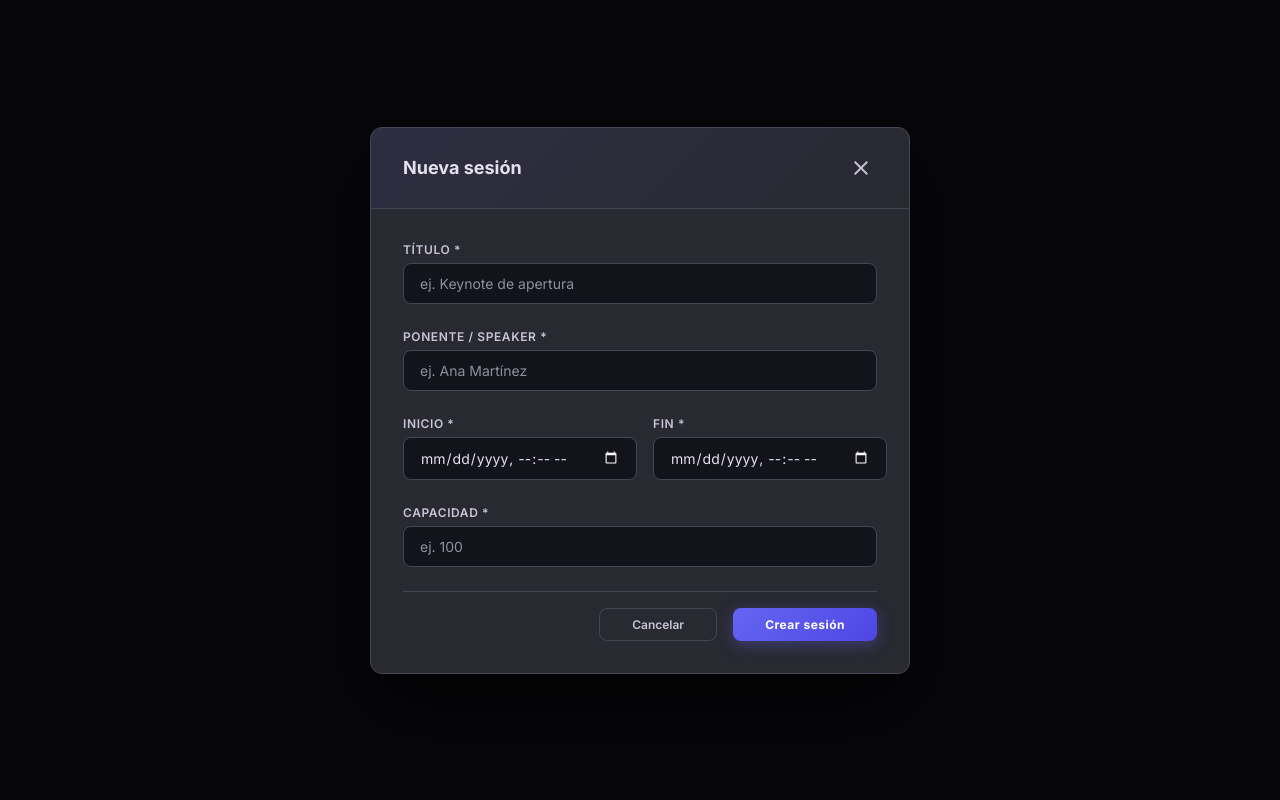
Test: SessionFormModal — create mode › shows error when end date is before start date
In the field labelled "Título *": (640, 283) left=403, top=262, right=877, bottom=304, type "My Talk"
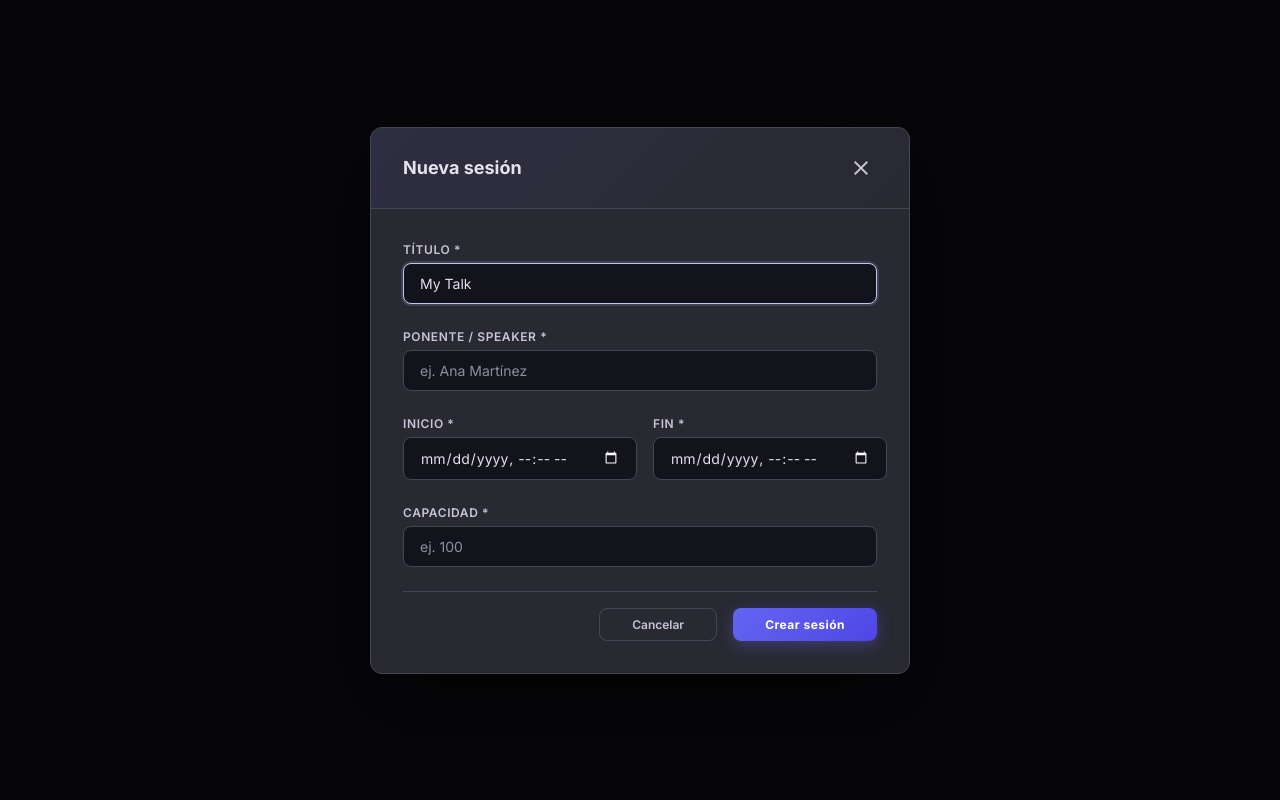
In the field labelled "Ponente / Speaker *": (640, 370) left=403, top=350, right=877, bottom=390, type "John"
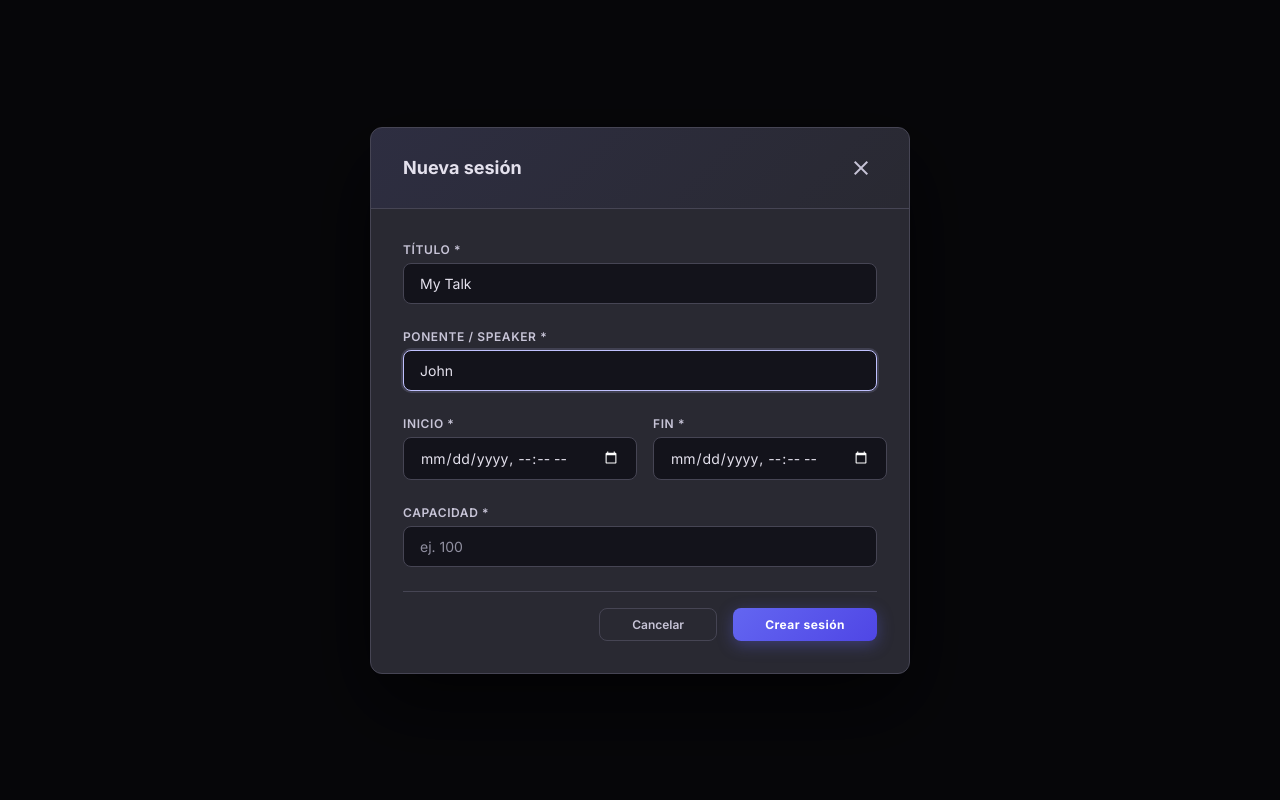
In the number field labelled "Capacidad *": (640, 546) left=403, top=526, right=877, bottom=566, type "50"
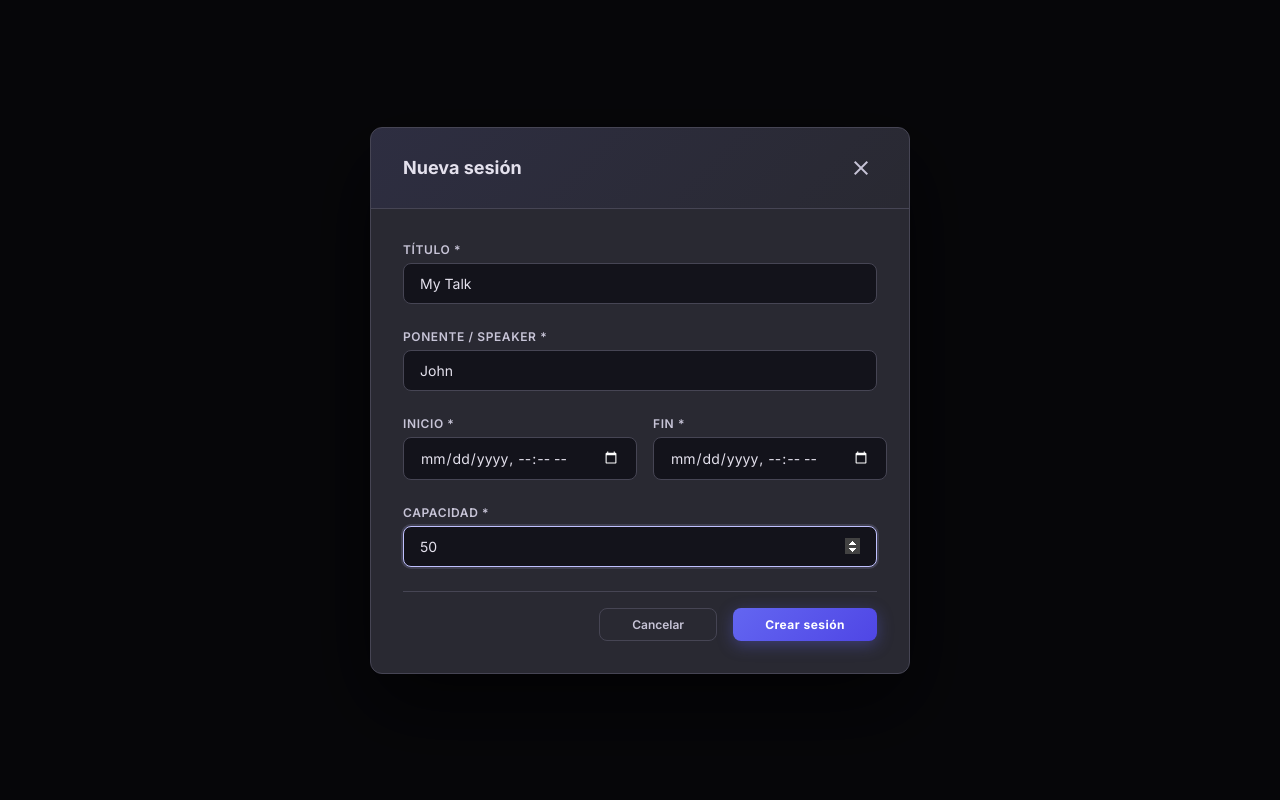
In the field labelled "Inicio *": (520, 458) left=403, top=436, right=637, bottom=480, type "2026-06-01T10:00"
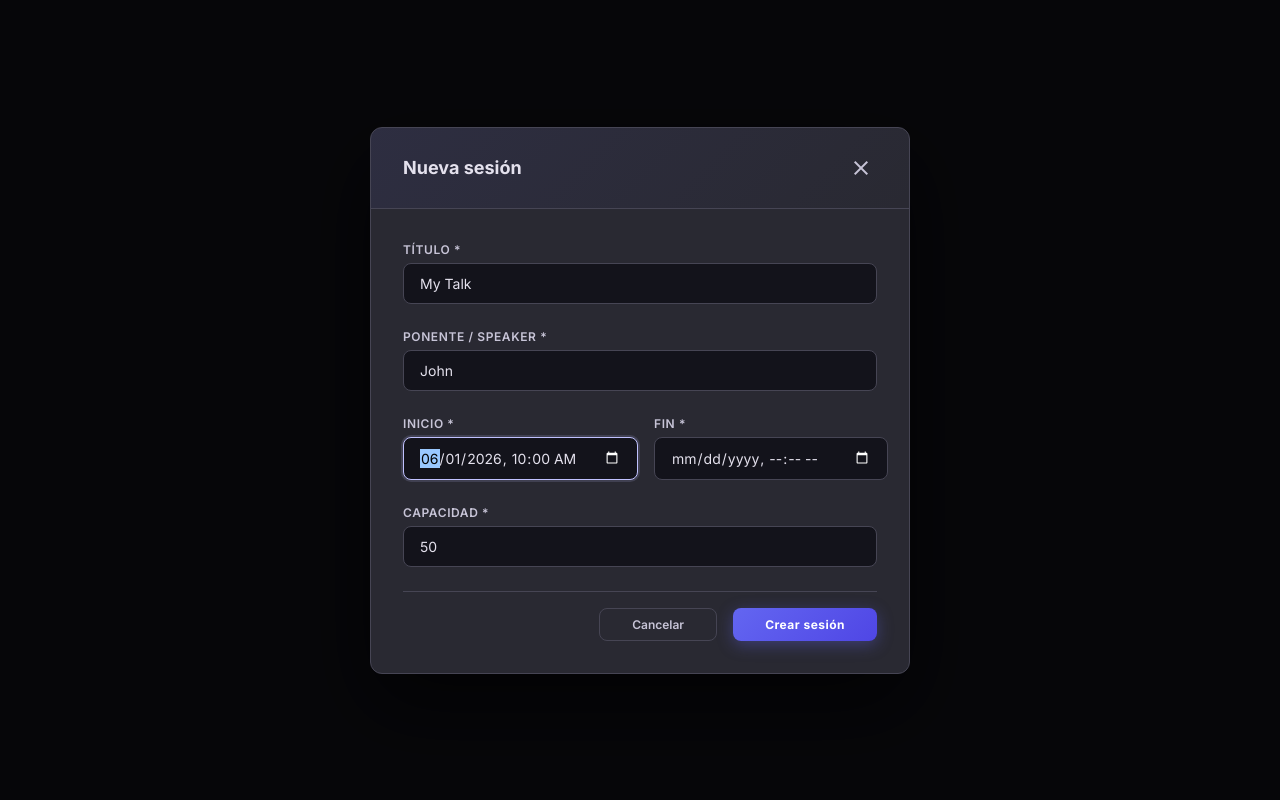
In the field labelled "Fin *": (771, 458) left=654, top=436, right=888, bottom=480, type "2026-06-01T09:00"
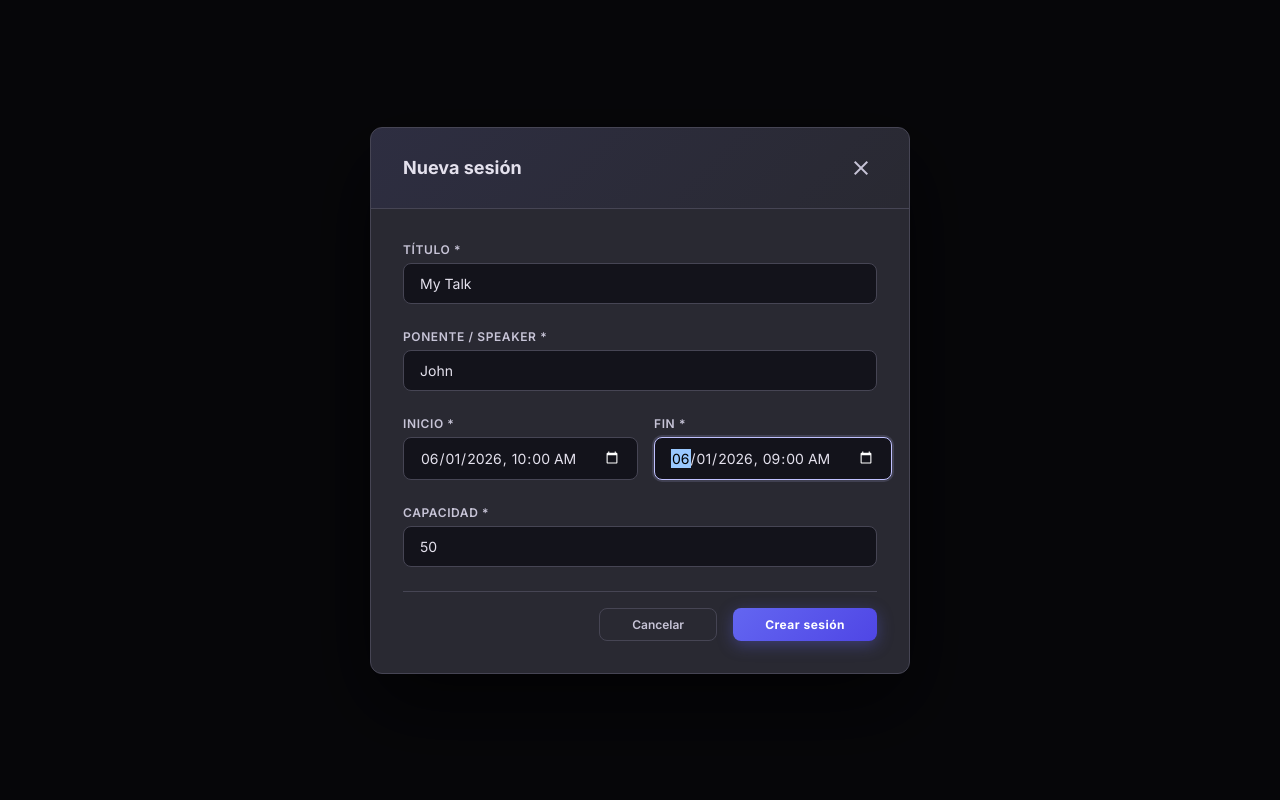
Click the button "Crear sesión": (805, 624) left=733, top=608, right=877, bottom=640
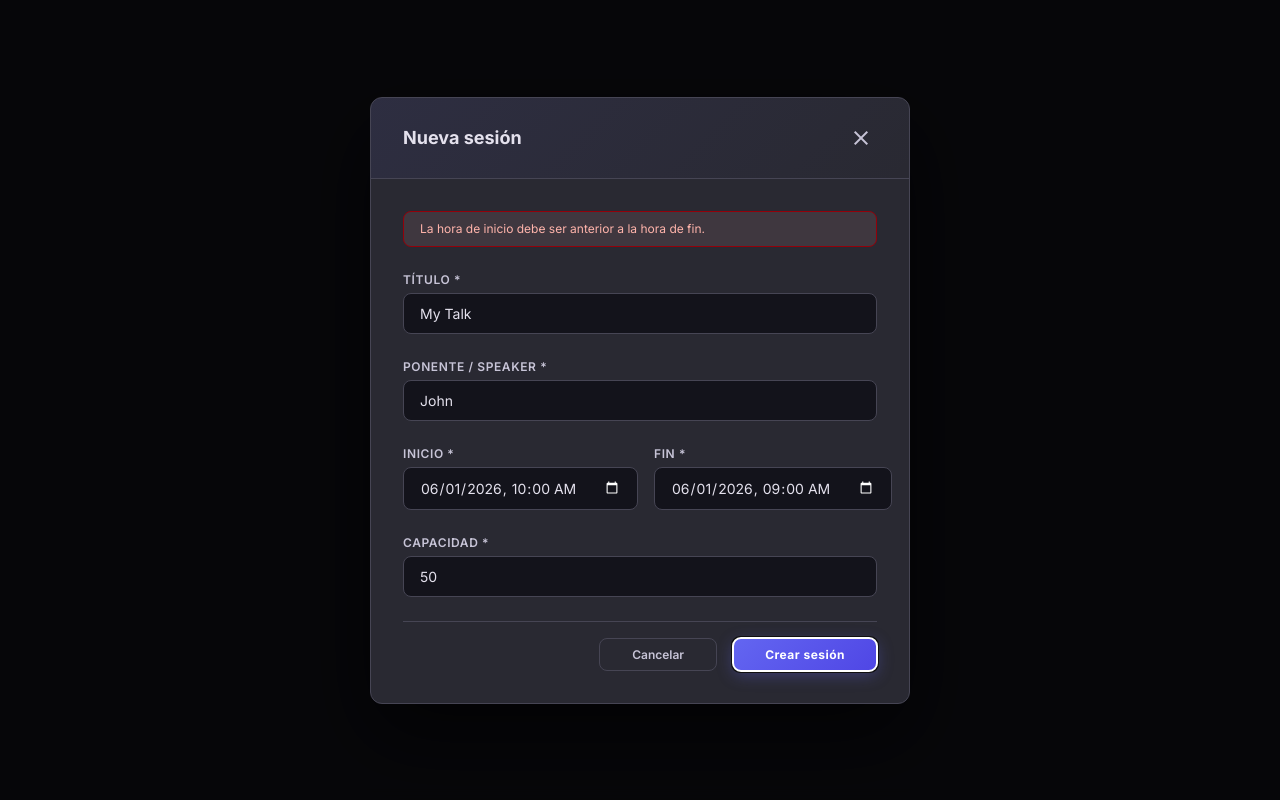
Expected: the text "La hora de inicio debe ser anterior a la hora de fin." is shown, left=403, top=210, right=877, bottom=246
